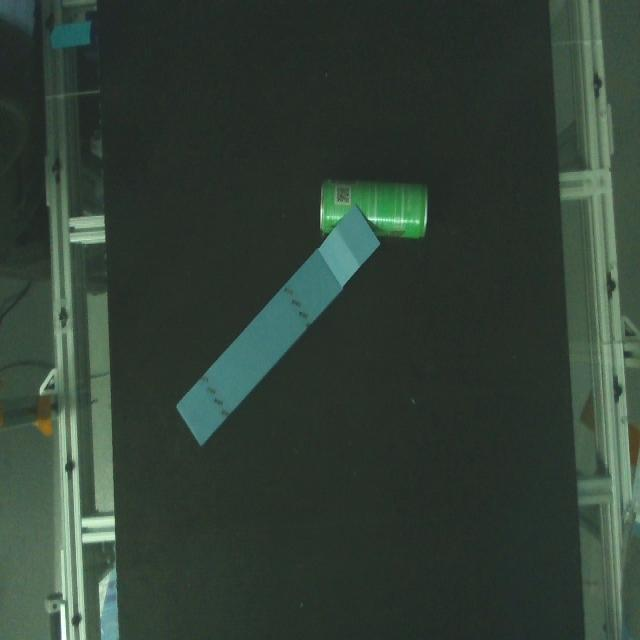non-paper: (307, 168, 436, 252)
paper: (176, 207, 386, 454)
